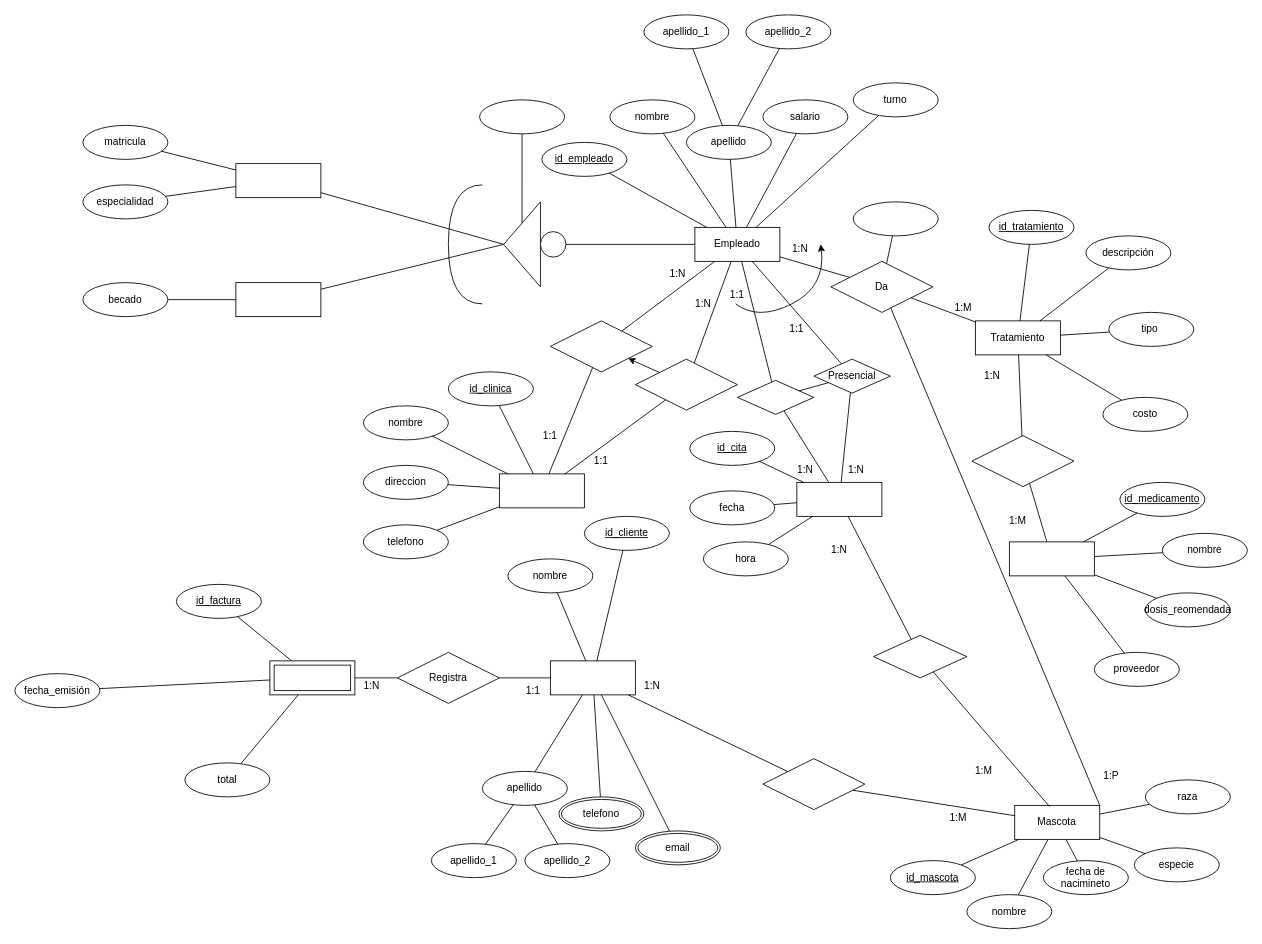
The diagram is 1262 pixels wide and 944 high, and some of its shapes have lost their labels. The centre of each missing label's shape, as x and y in pixels:
"Asigna" goes at [1022,461].
"Asistente" goes at [278,299].
"cargo" goes at [522,116].
"Cita" goes at [839,499].
"Cliente" goes at [592,677].
"Clinica" goes at [541,490].
"Contratado" goes at [686,384].
"Factura" goes at [312,677].
"fecha_comienzo" goes at [895,218].
"Llamada" goes at [775,397].
"Medicamento" goes at [1051,558].
"Pertenece" goes at [813,784].
"Tiene Reserva" goes at [920,656].
"Trabaja" goes at [601,346].
"Veterinario" goes at [278,180].
